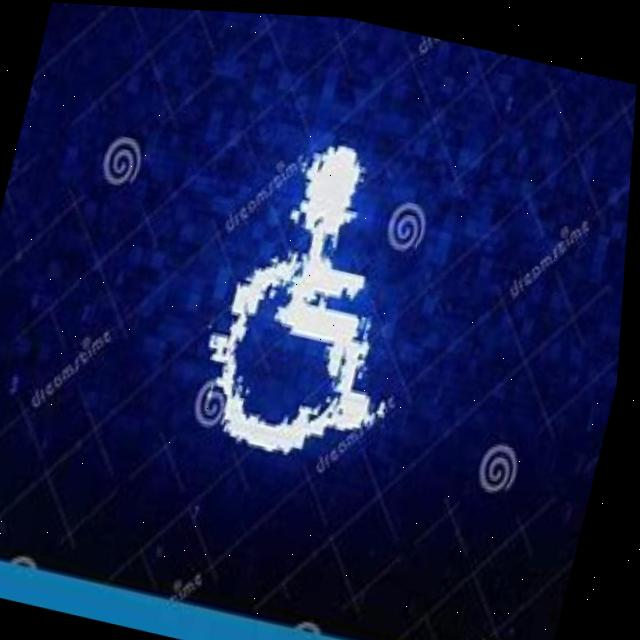symbol_of_access: (192, 117, 444, 474)
